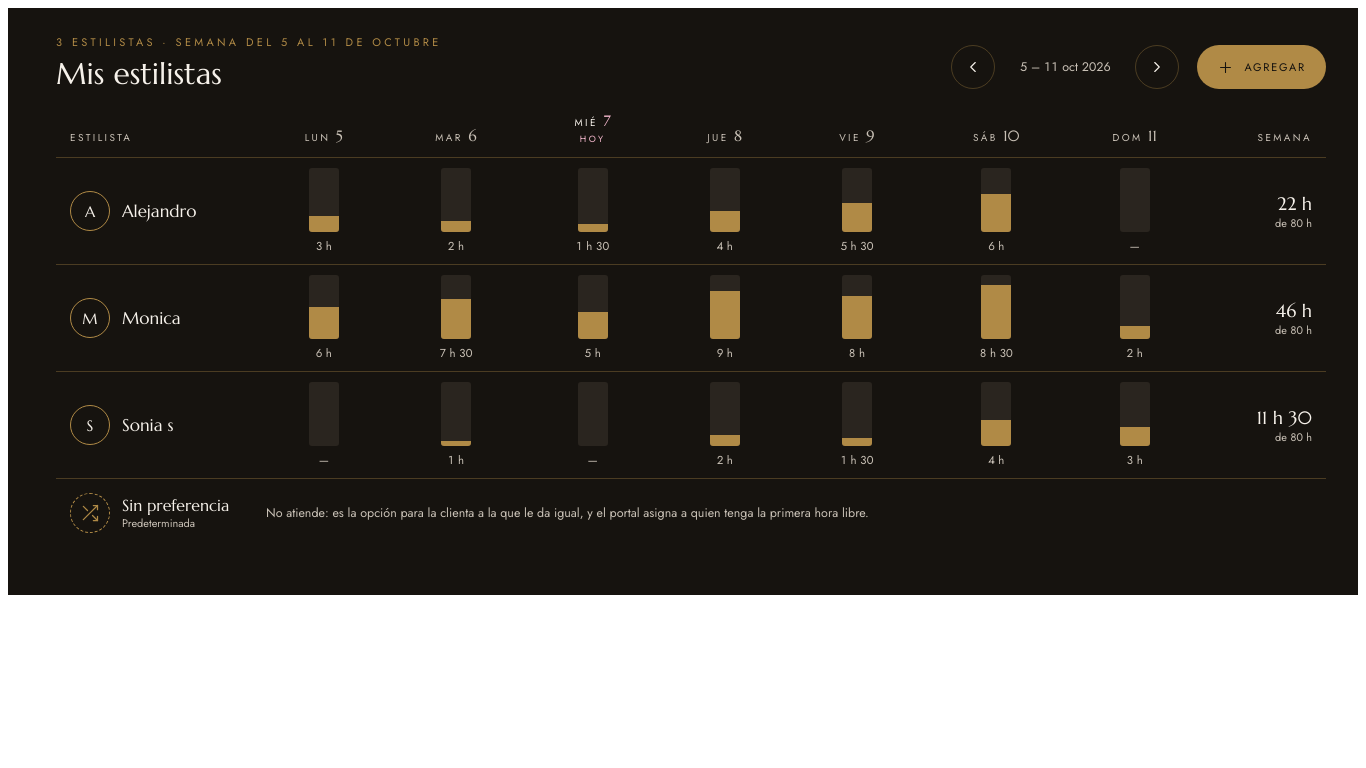
Scenario: WorkersPage · el panel › elegir una estilista abre su panel al lado de la tabla, con sus citas de hoy
Click the button with test id "elegir-estilista" showing "M Monica": {"x": 125, "y": 318} [70, 296, 181, 340]
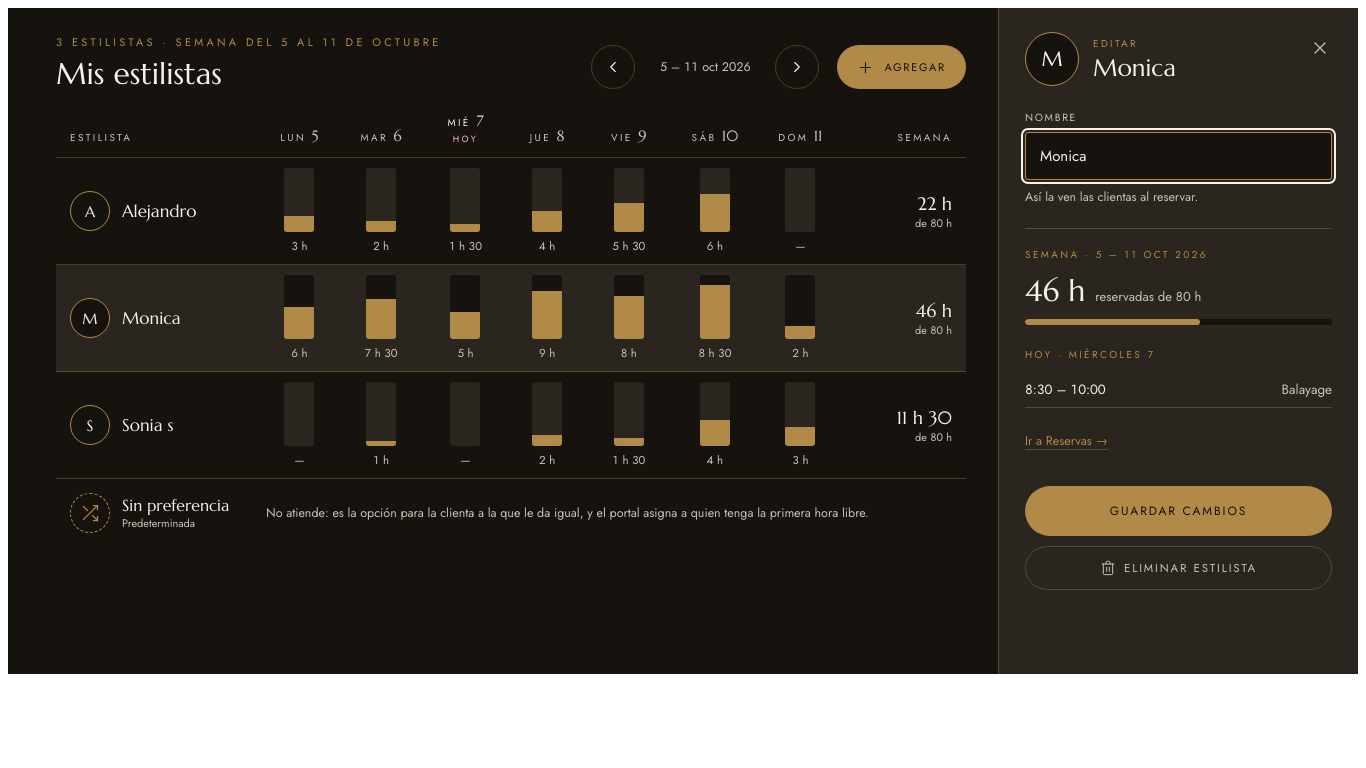
Result: the heading with test id "panel-titulo" reads "Monica" at [1093, 53, 1176, 83]
Result: the list item with test id "cita-hoy" reads "8:30 – 10:00 Balayage" at [1025, 372, 1332, 408]
Result: the text "Hoy · miércoles 7" is shown at [1025, 347, 1155, 362]
